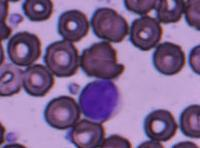L: (79, 79, 123, 124)
